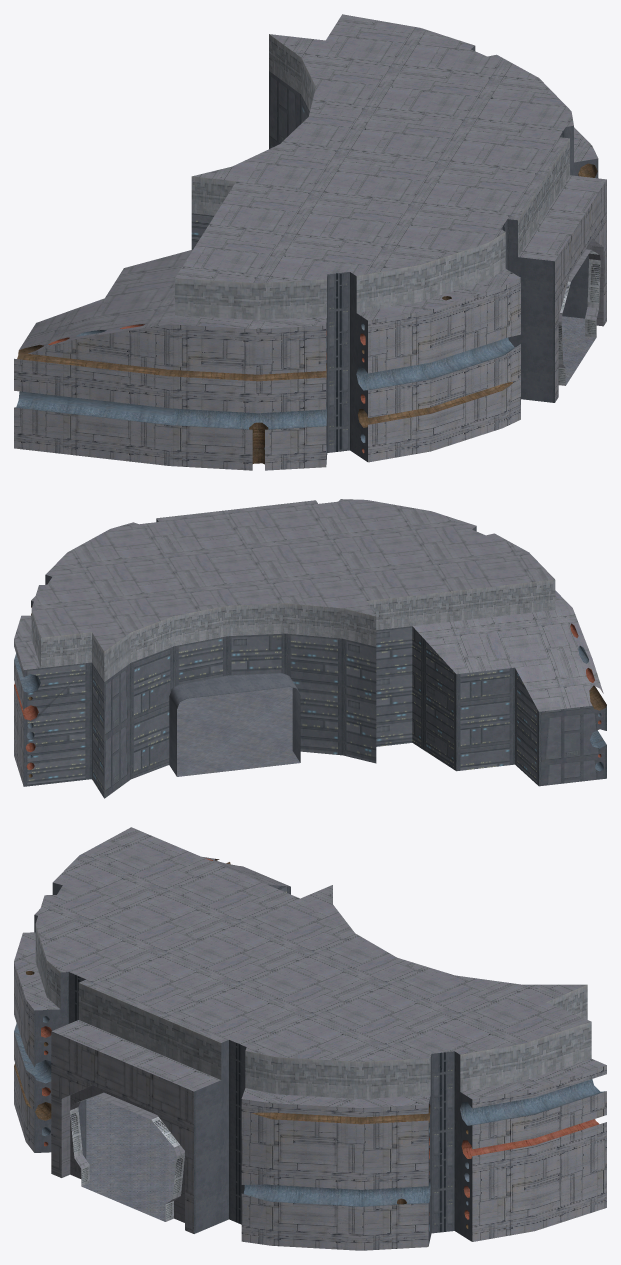
File: mun_corl_starport_s01_u01_r12_departures1_mesh_r12.fbx
3 renders of one model, top to bottom at view 1: azimuth 30°, elevation 25°; view 2: azimuth 150°, elevation 25°; view 3: azimuth 270°, elevation 25°, orthographic. The views are drawn at different scales.
Parts seen in each view (by area): view 1: mesh_node; view 2: mesh_node; view 3: mesh_node.
Boxes of the visible parts, x1=… form: mesh_node: x1=14, y1=14, x2=606, y2=470; mesh_node: x1=14, y1=499, x2=606, y2=798; mesh_node: x1=14, y1=827, x2=606, y2=1250.
Bounding box in the file's own units: 27.16 × 7.61 × 22.77.
